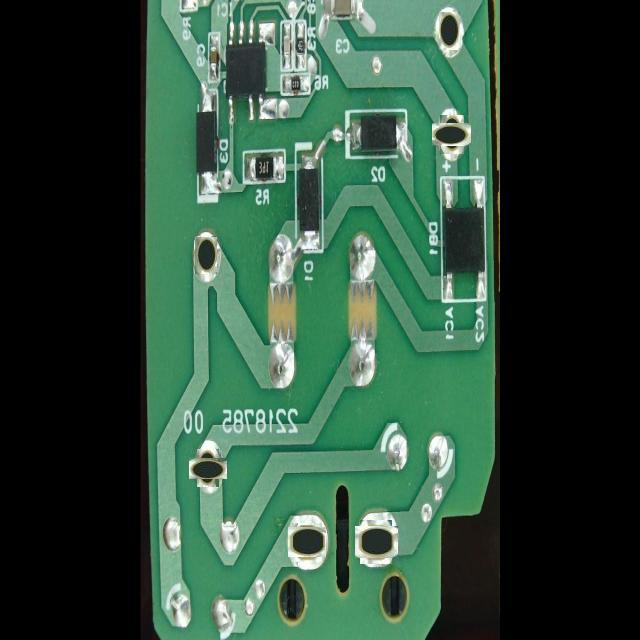damged: (357, 523, 395, 561), (290, 525, 324, 560), (436, 119, 468, 150), (193, 453, 223, 483), (194, 236, 217, 274), (439, 12, 460, 50)
